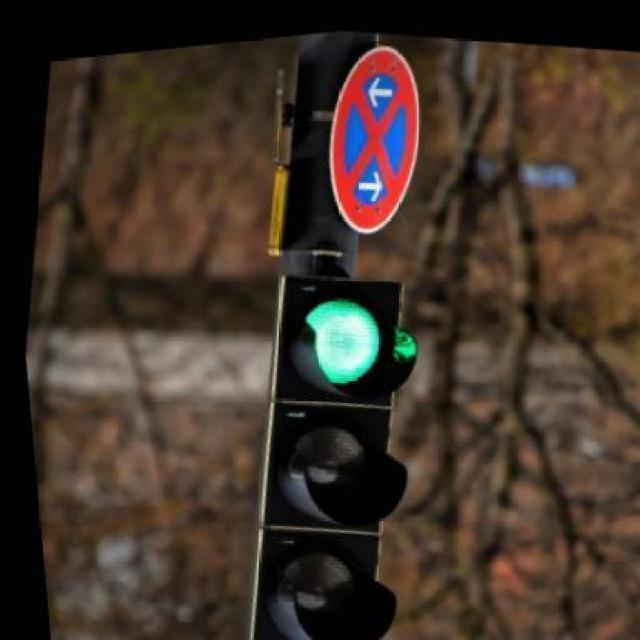green_light: (253, 273, 416, 637)
